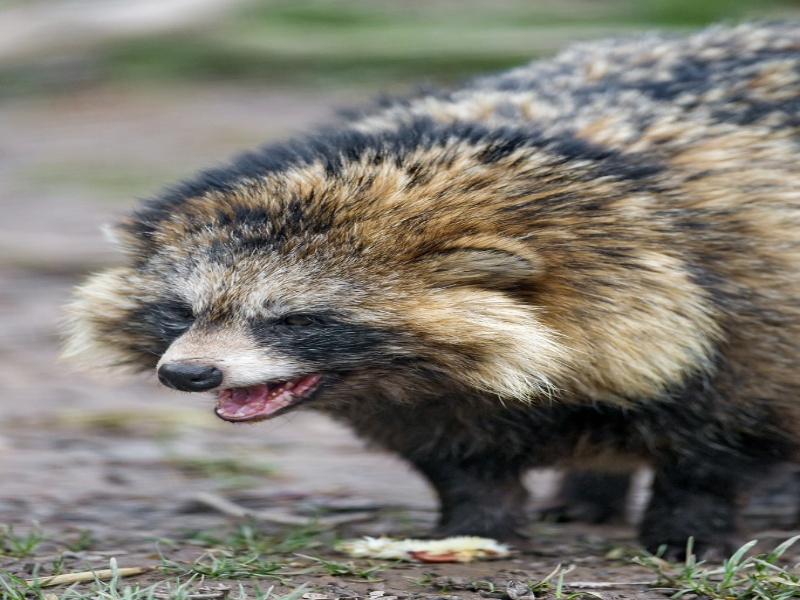raccoon: (64, 23, 795, 570)
